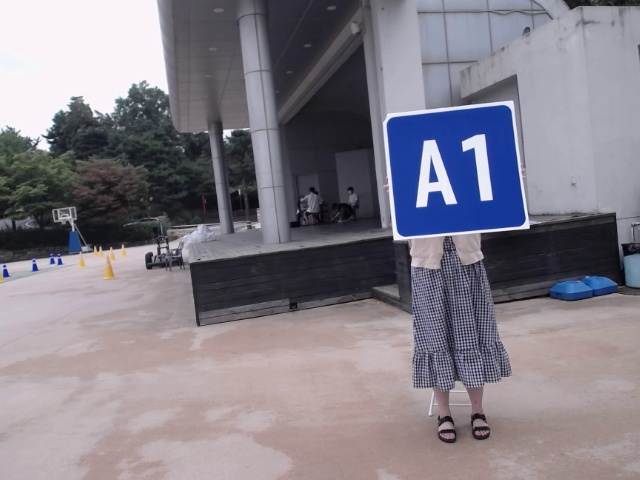delivery_a1: (385, 105, 527, 239)
